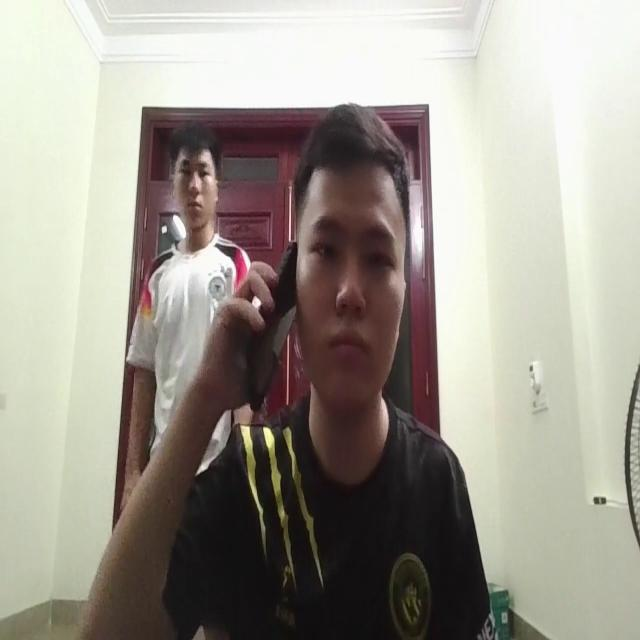extra_person: (122, 111, 254, 451)
phone: (238, 226, 308, 408)
student: (177, 99, 481, 640)
